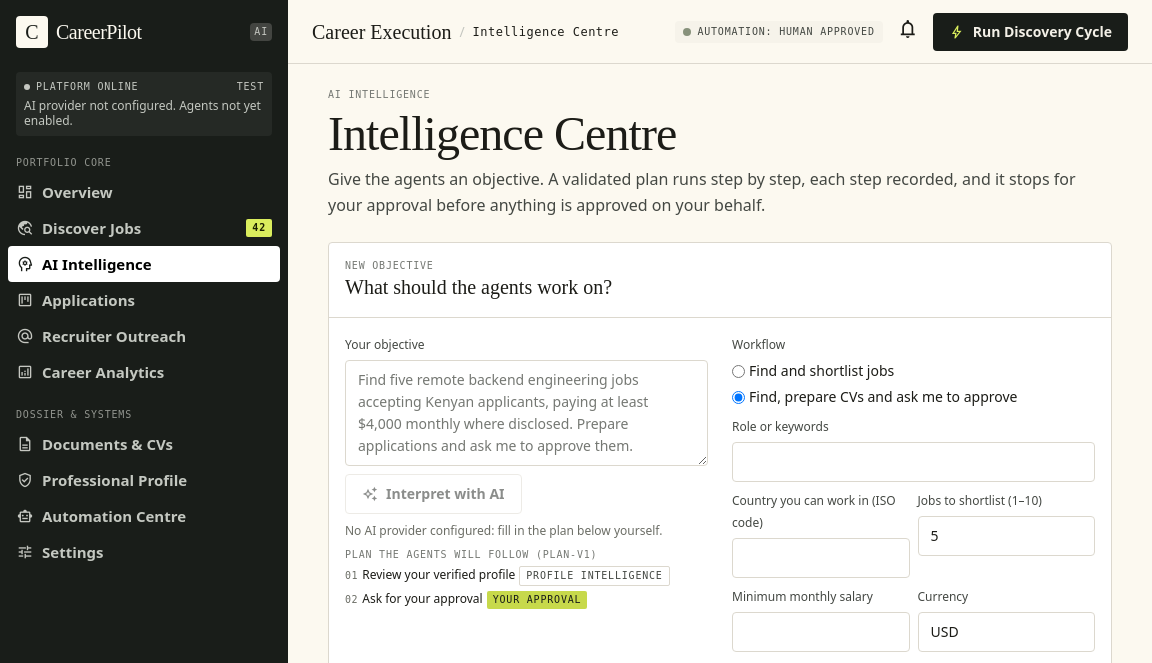
Test case: intelligence centre › starts a structured workflow without AI and shows the plan first
The image size is (1152, 663).
Expected: the text "Ask for your approval" is shown, left=362, top=590, right=483, bottom=608
Expected: the button "Interpret with AI" is disabled, left=345, top=474, right=522, bottom=514
Type "backend engineer" into the field labelled "Role or keywords" at x=914, y=462, box left=732, top=442, right=1095, bottom=482
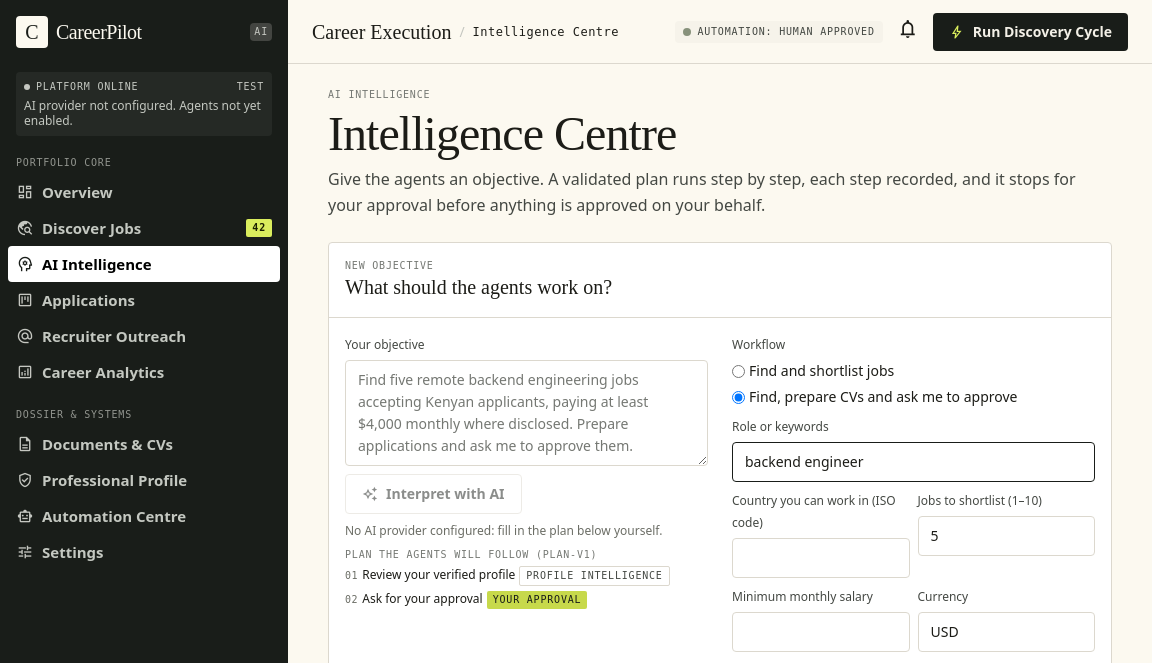
Type "ke" into the field labelled "Country you can work in (ISO code)" at x=821, y=558, box left=732, top=538, right=910, bottom=578
(page scrolled)
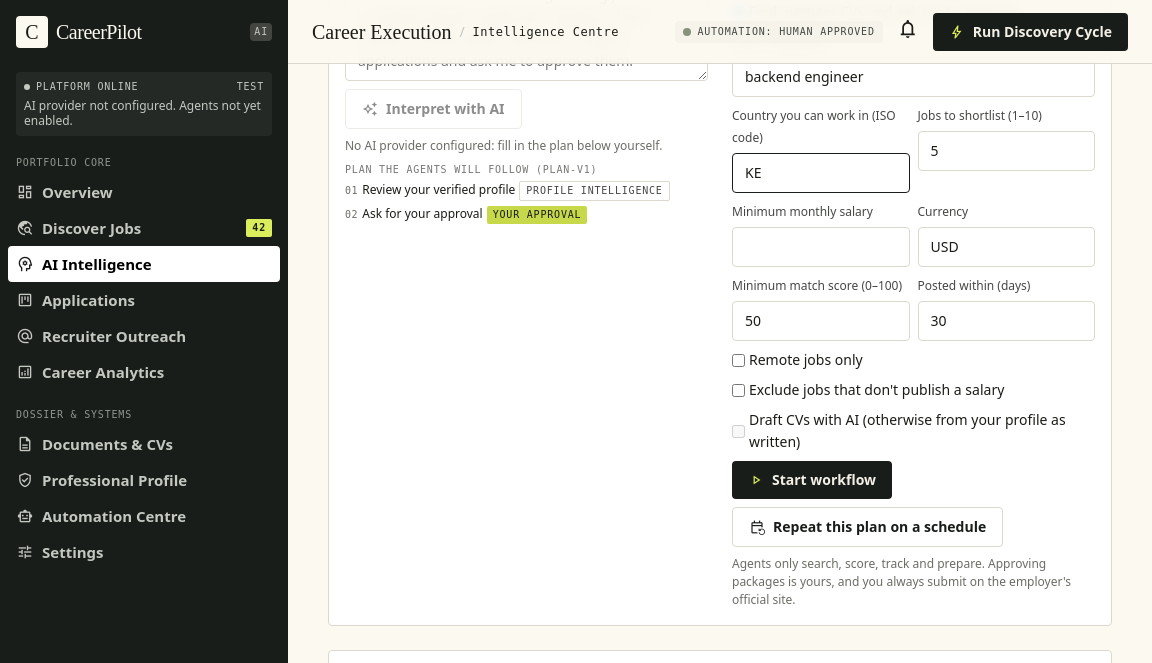
Click the checkbox labelled "Remote jobs only" at x=738, y=360, box left=732, top=354, right=745, bottom=366
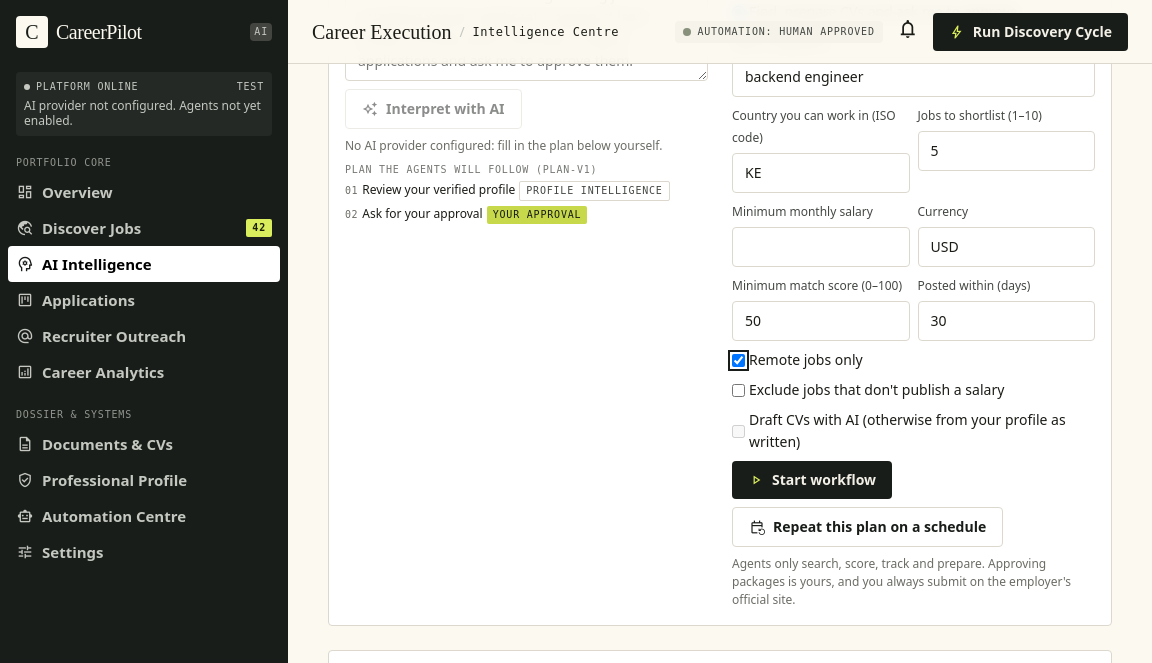
Click the button "Start workflow" at x=812, y=480, box left=732, top=461, right=892, bottom=499
(page scrolled)
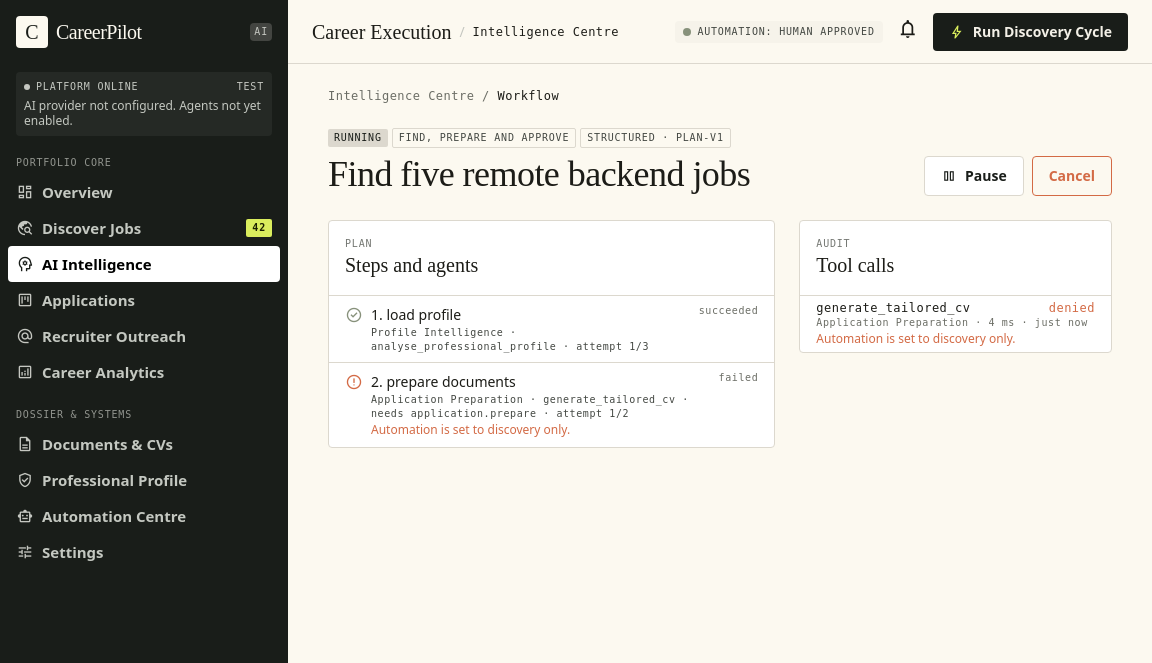
Now the text "Automation is set to discovery only." is shown 2 times, box left=371, top=421, right=570, bottom=438; left=816, top=330, right=1016, bottom=347
